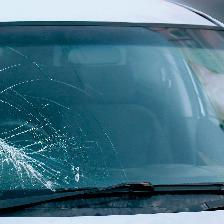glass_shatter: (5, 73, 107, 199)
